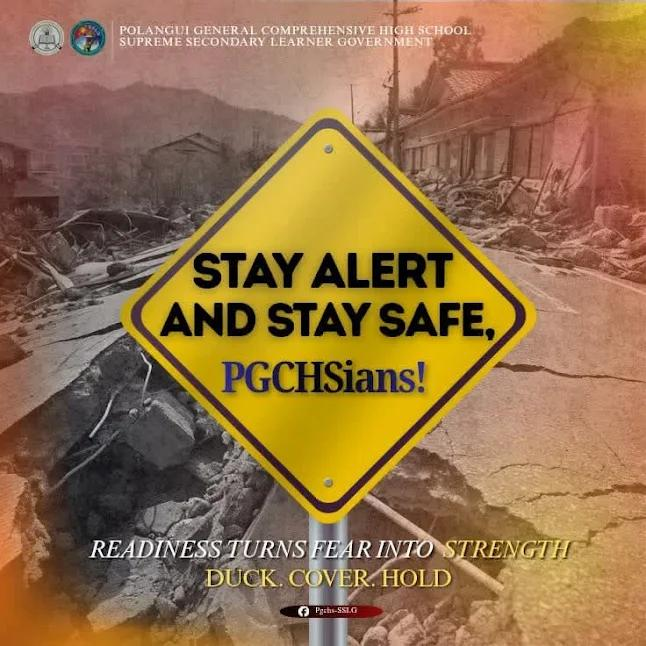embellishment: (297, 605, 312, 617)
logo: (26, 18, 68, 58), (68, 16, 107, 59)
text: (158, 246, 503, 402), (84, 530, 580, 590), (116, 22, 477, 53), (314, 605, 362, 617)
underlay: (281, 605, 383, 619)
